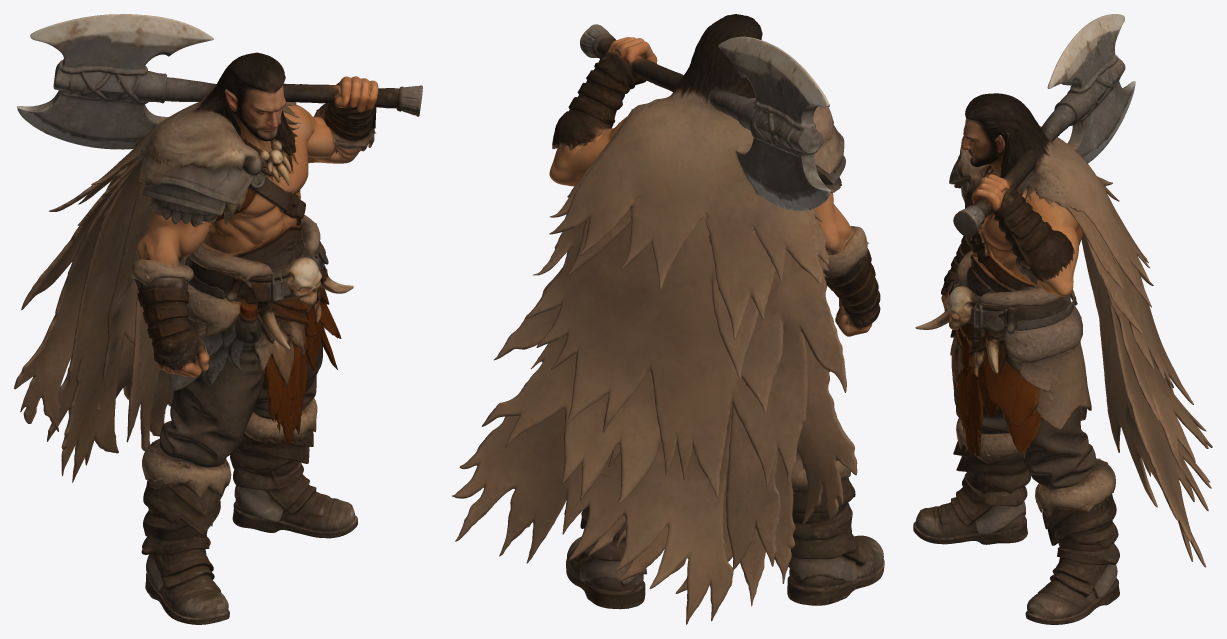
The model's file is half_elf_barbarian_full_male_01.glb.
3 views of the same model, side by side, from view 1: azimuth 30°, elevation 25°; view 2: azimuth 150°, elevation 25°; view 3: azimuth 270°, elevation 25° (orthographic). The views are drawn at different scales.
Visible parts, largest first — view 1: material; view 2: material; view 3: material.
Part boxes in pixels (box(x1,y1,x2,y2)): material: box(14, 14, 422, 624); material: box(452, 14, 884, 624); material: box(913, 14, 1212, 624).
Size of the model in its own units: 0.6725 by 1.04 by 0.5607.
Materials: 1 (1 with a texture image).
